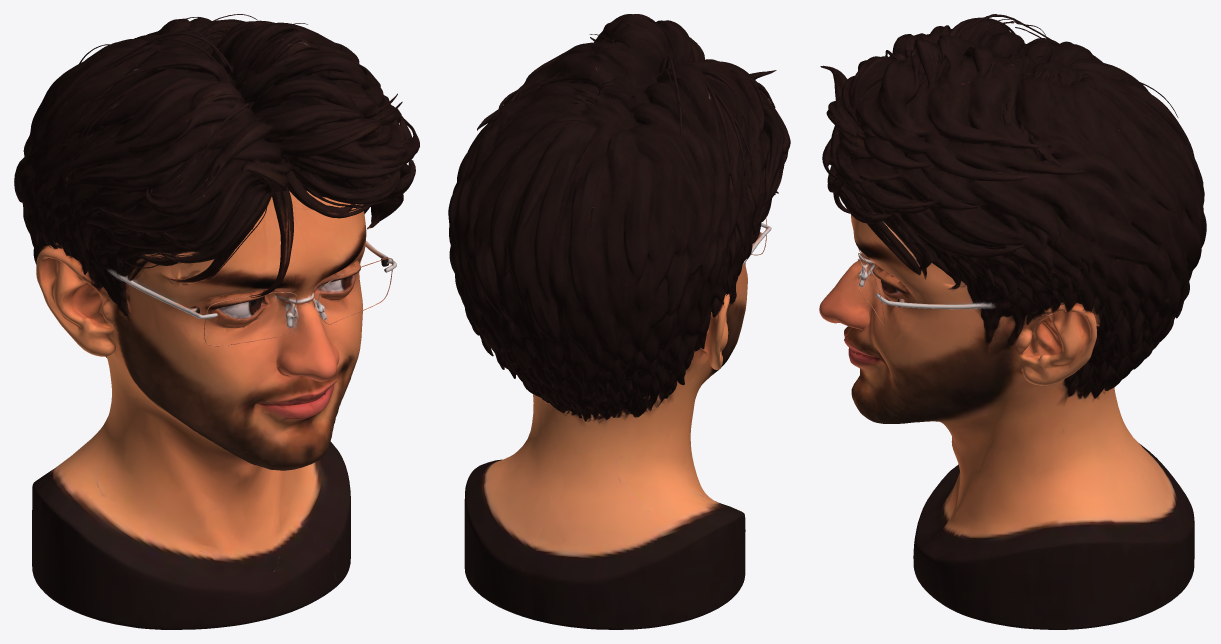
File: smug_eyes.glb
3 views of the same model, side by side, from view 1: azimuth 30°, elevation 25°; view 2: azimuth 150°, elevation 25°; view 3: azimuth 270°, elevation 25° (orthographic). The views are drawn at different scales.
Bounding box in the file's own units: 1.08 × 1.9 × 1.23.
1 material, 1 textured.
